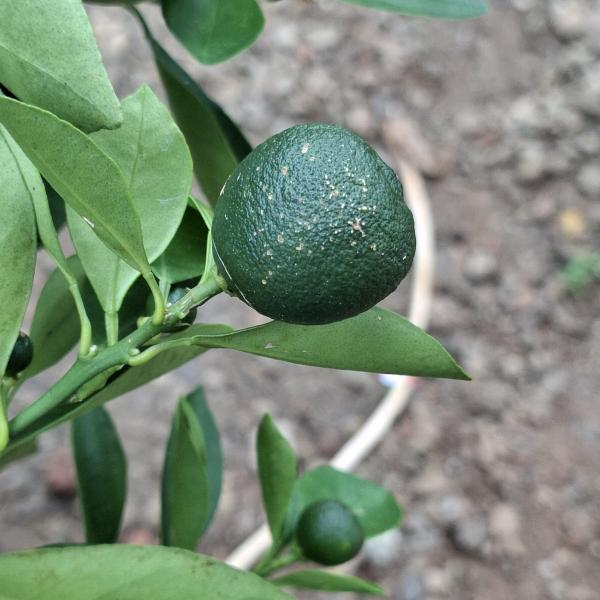Scab: (198, 126, 434, 332)
